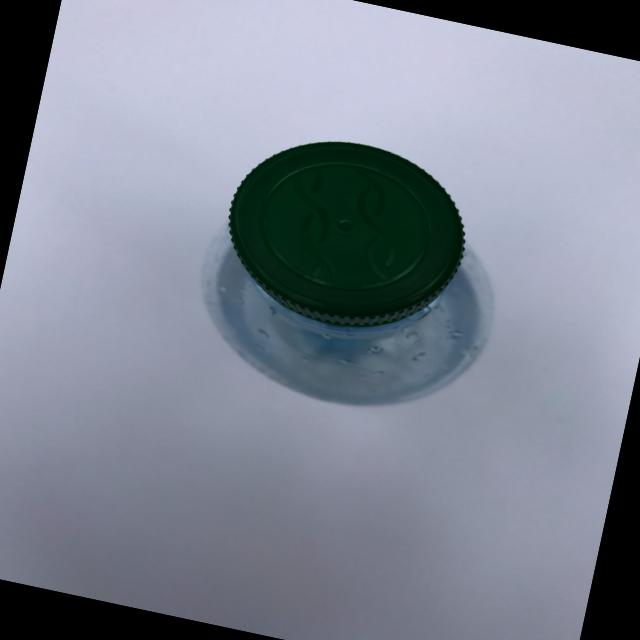Plastic: (151, 92, 512, 400)
